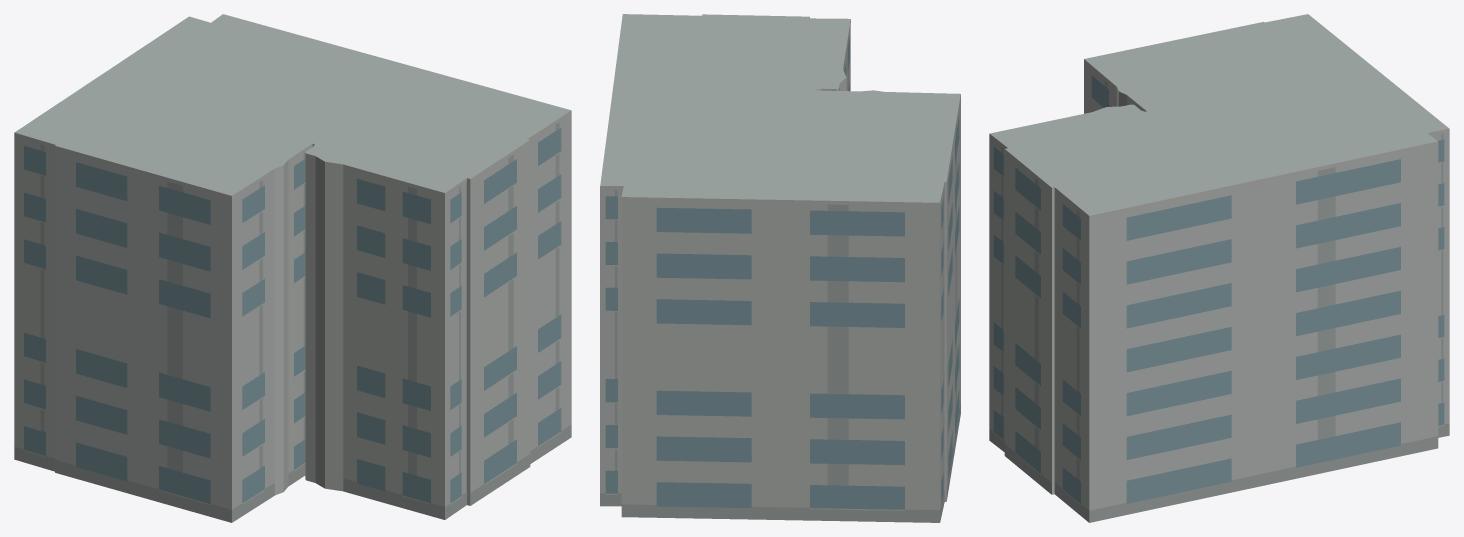
Rendered from survey-upis-32835457.glb.
The picture shows the model from 3 angles, left to right: view 1: azimuth 30°, elevation 25°; view 2: azimuth 150°, elevation 25°; view 3: azimuth 270°, elevation 25°; orthographic projection. The views are drawn at different scales.
Visible parts, largest first — view 1: survey-upis-32835457.tmp; view 2: survey-upis-32835457.tmp; view 3: survey-upis-32835457.tmp.
Part boxes in pixels (left/top/right/bottom): survey-upis-32835457.tmp: left=14, top=14, right=571, bottom=522; survey-upis-32835457.tmp: left=600, top=14, right=960, bottom=522; survey-upis-32835457.tmp: left=989, top=14, right=1449, bottom=522.
Bounding box in the file's own units: 28.5 × 20.2 × 27.45.
